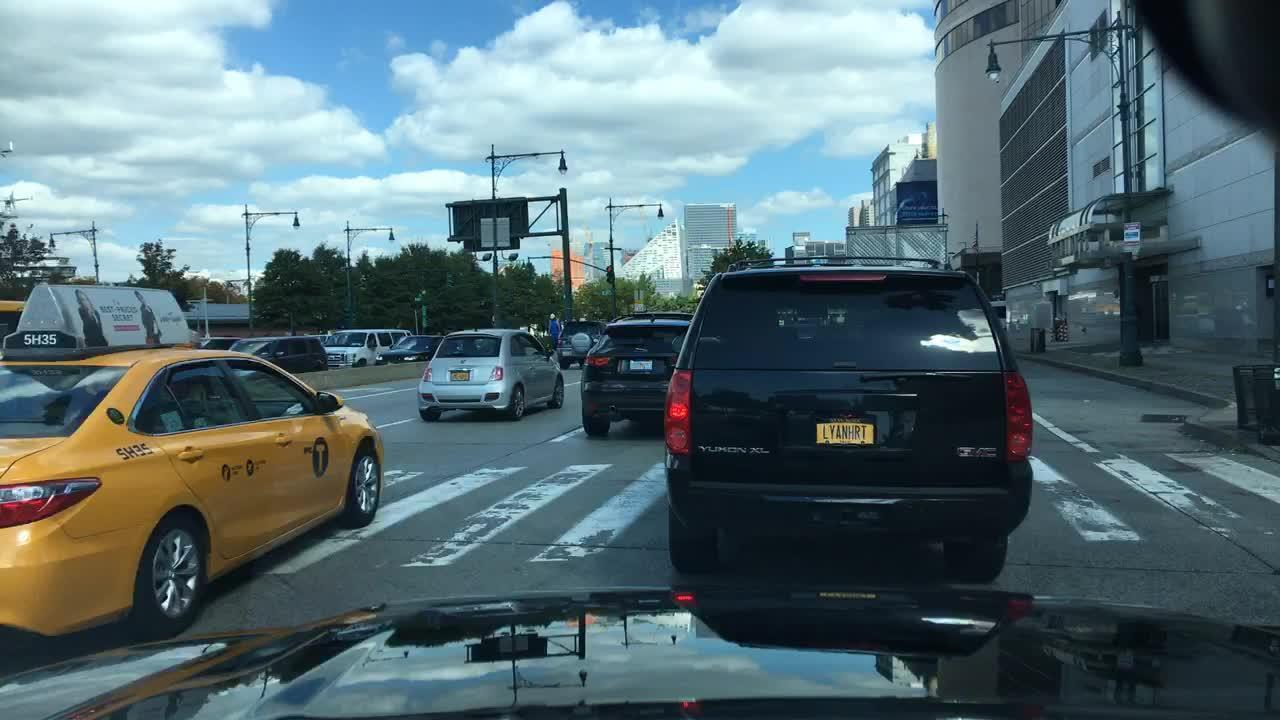GMC: (958, 443, 998, 460)
